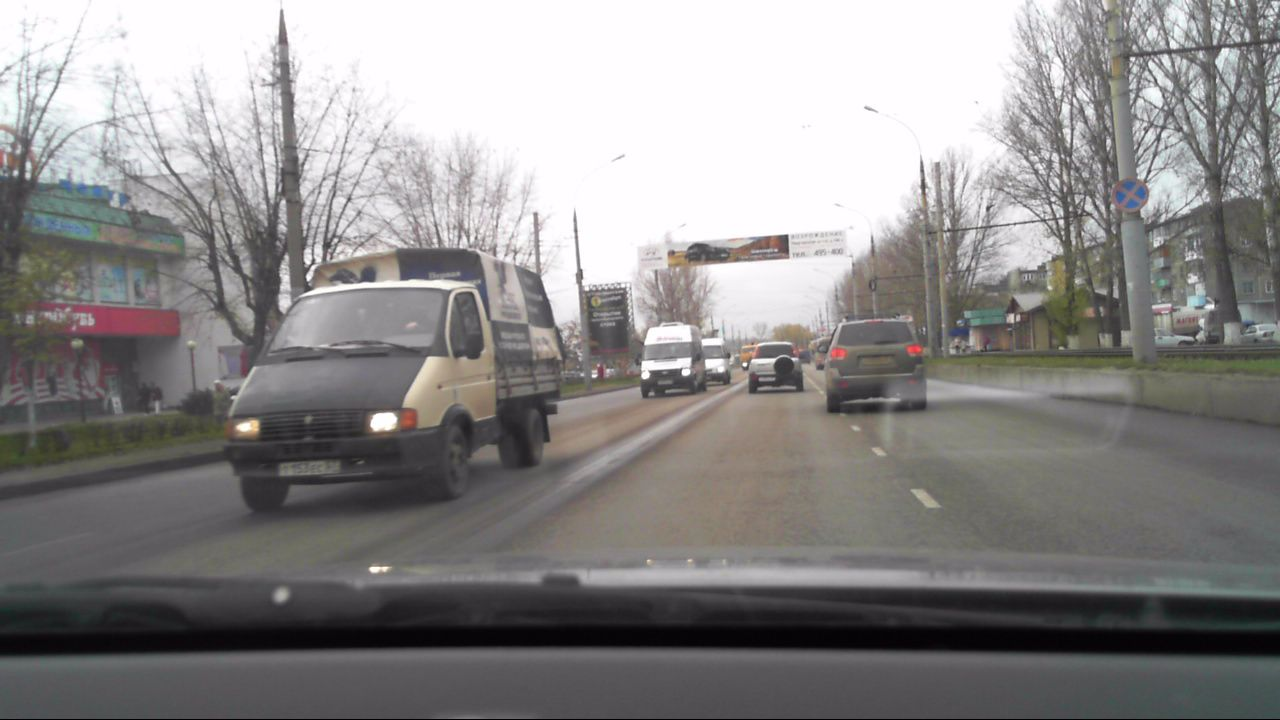No Parking: (1111, 177, 1152, 216)
